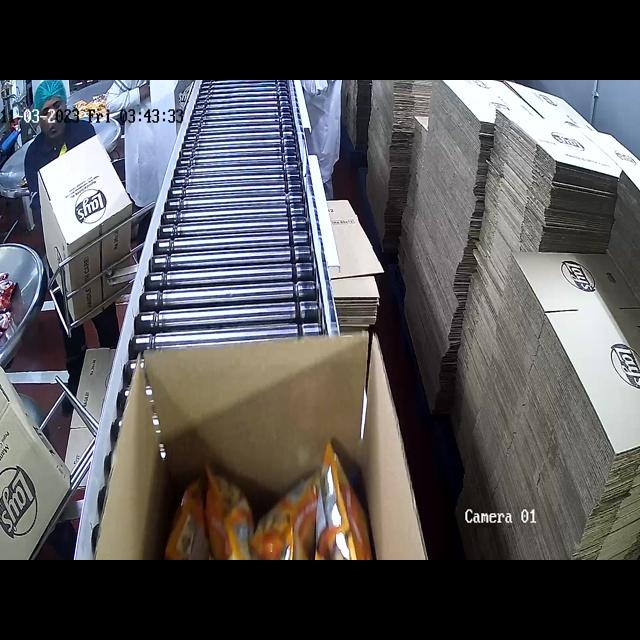cheese: (130, 418, 384, 560)
